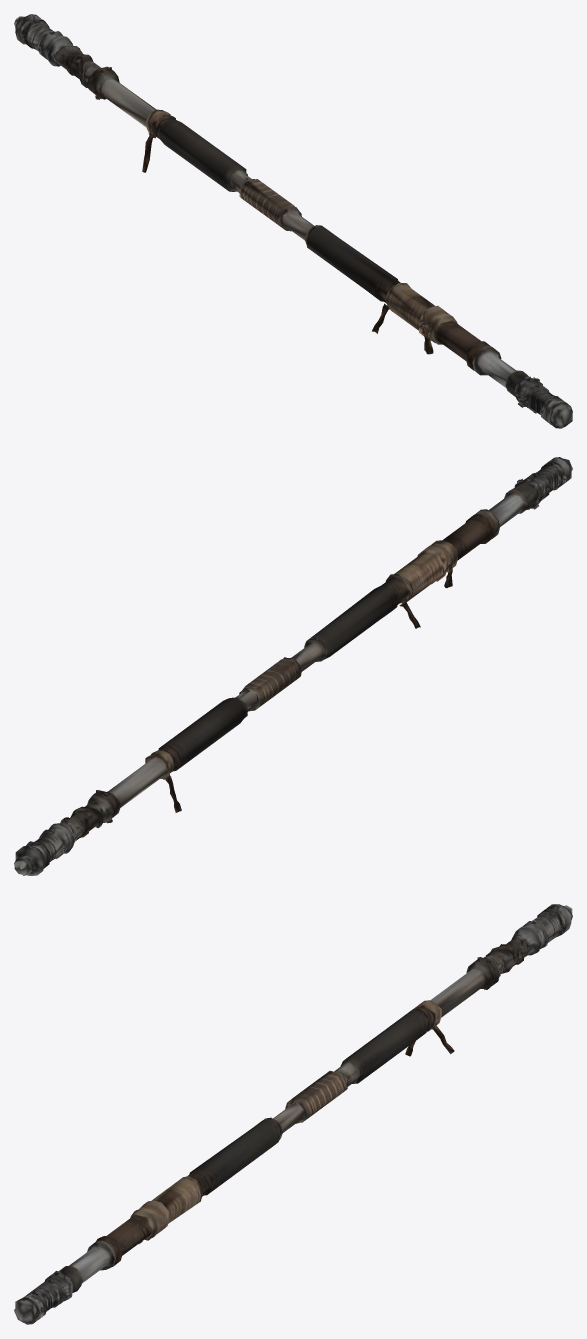
The model's file is rey_staff.glb.
3 views of the same model, one above another, from view 1: azimuth 30°, elevation 25°; view 2: azimuth 150°, elevation 25°; view 3: azimuth 330°, elevation 25° (orthographic).
Parts seen in each view (by area): view 1: rey_staff; view 2: rey_staff; view 3: rey_staff.
Boxes of the visible parts, left/top/right/bottom form: rey_staff: left=14, top=14, right=572, bottom=428; rey_staff: left=14, top=457, right=572, bottom=875; rey_staff: left=14, top=904, right=572, bottom=1324.
Size of the model in its own units: 0.0528 by 0.0566 by 0.9551.
1 material, 1 textured.
